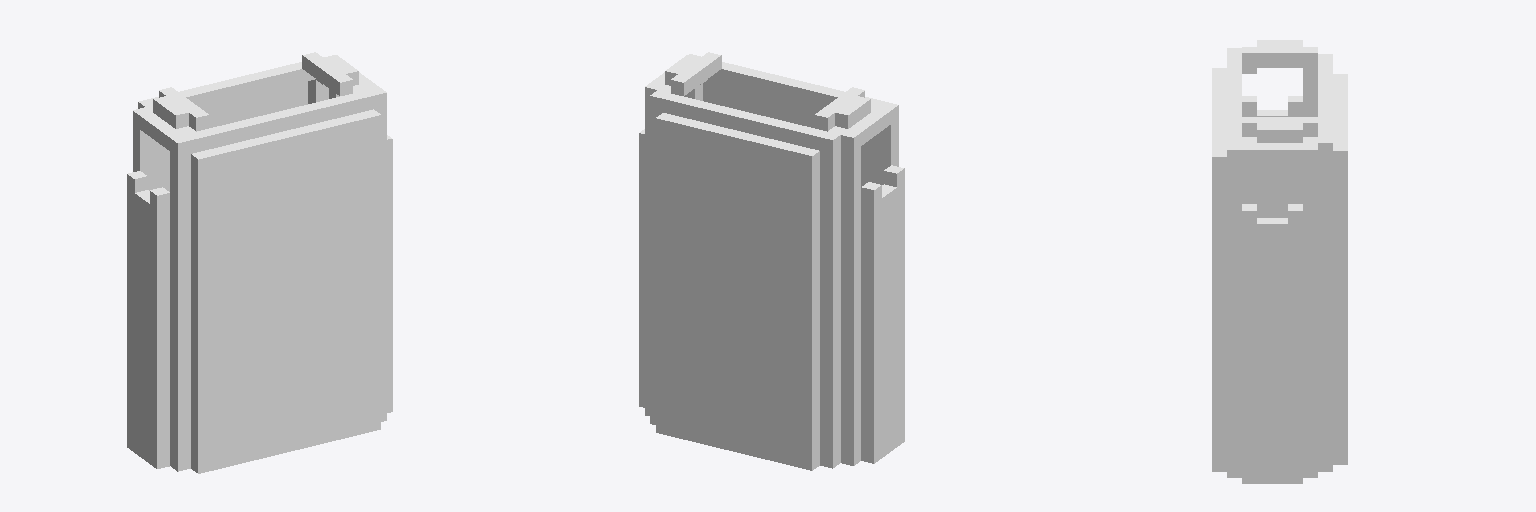
The model's file is BodyArmorPrefab.obj.
The picture shows the model from 3 angles: view 1: azimuth 30°, elevation 25°; view 2: azimuth 150°, elevation 25°; view 3: azimuth 270°, elevation 25°; orthographic projection.
Visible parts, largest first — view 1: object 1; view 2: object 1; view 3: object 1.
Boxes of the visible parts, <box> form: object 1: <box>127,52,392,473</box>; object 1: <box>639,52,904,470</box>; object 1: <box>1212,40,1347,483</box>.
Size of the model in its own units: 1.8 by 2.5 by 0.9.